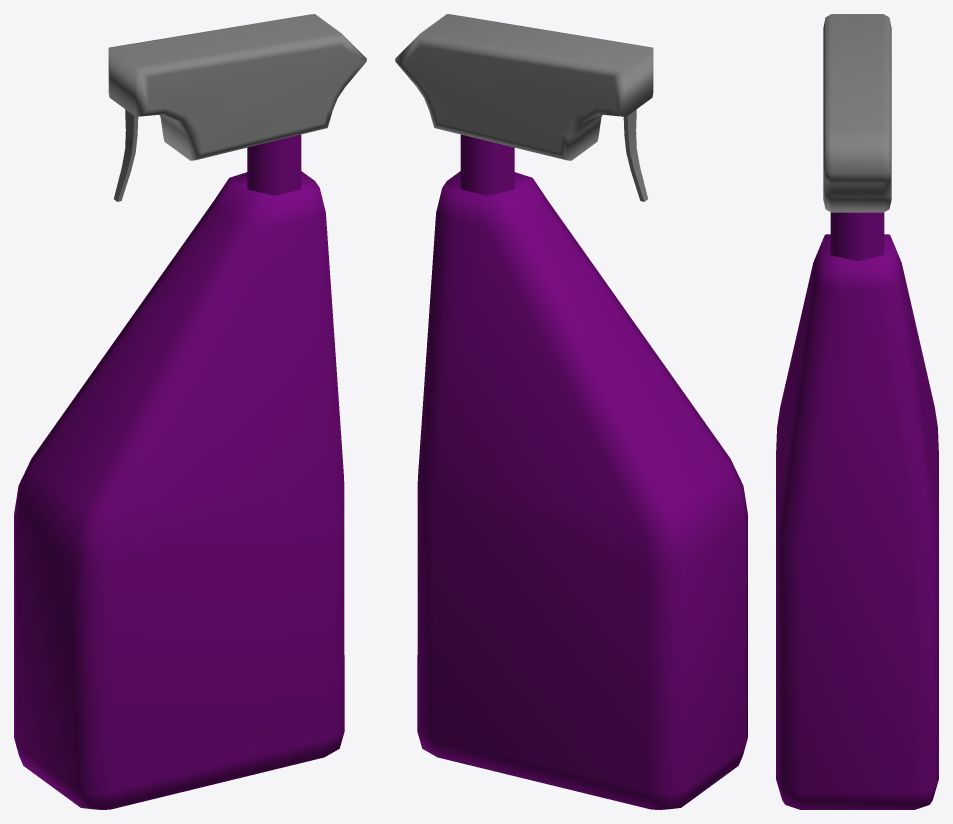
Rendered from SM_Cleaning_Product_01.fbx.
The picture shows the model from 3 angles, left to right: view 1: azimuth 30°, elevation 25°; view 2: azimuth 150°, elevation 25°; view 3: azimuth 270°, elevation 25°; orthographic projection.
Visible parts, largest first — view 1: SM_Cleaning_Product_01; view 2: SM_Cleaning_Product_01; view 3: SM_Cleaning_Product_01.
Part boxes in pixels (x1,y1,x2,y2): SM_Cleaning_Product_01: (14,14,366,809); SM_Cleaning_Product_01: (395,14,747,809); SM_Cleaning_Product_01: (776,14,938,809).
Size of the model in its own units: 21.94 by 48.87 by 10.11.
